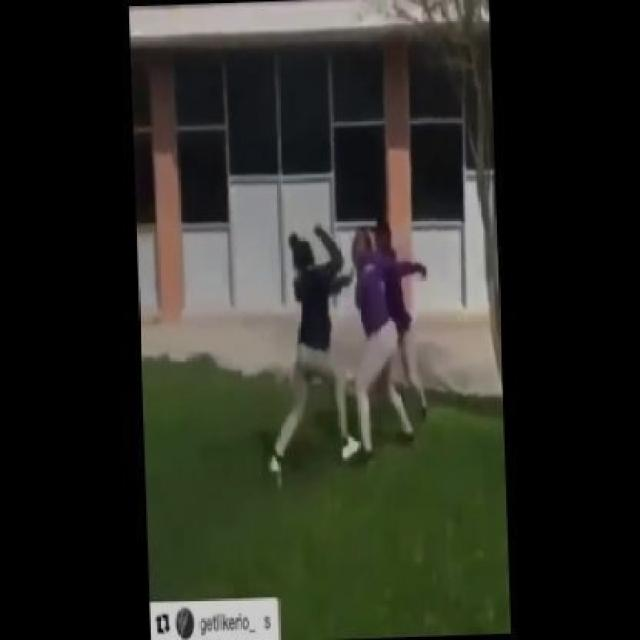fight: (253, 200, 442, 486)
